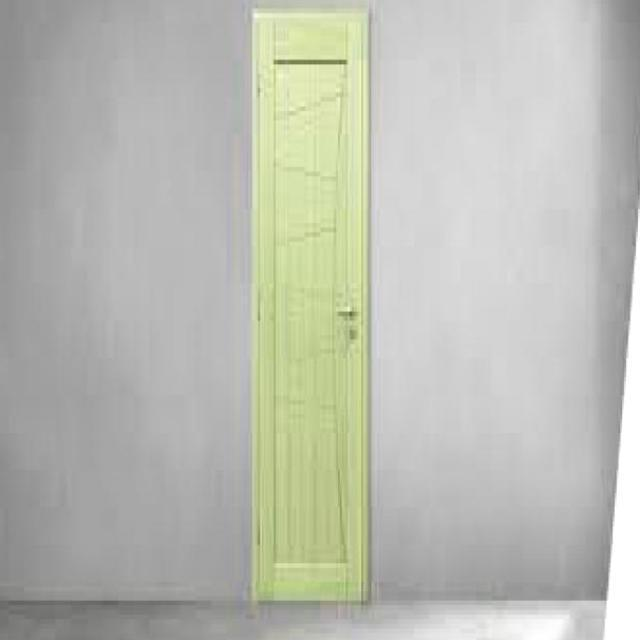door: (250, 7, 370, 604)
